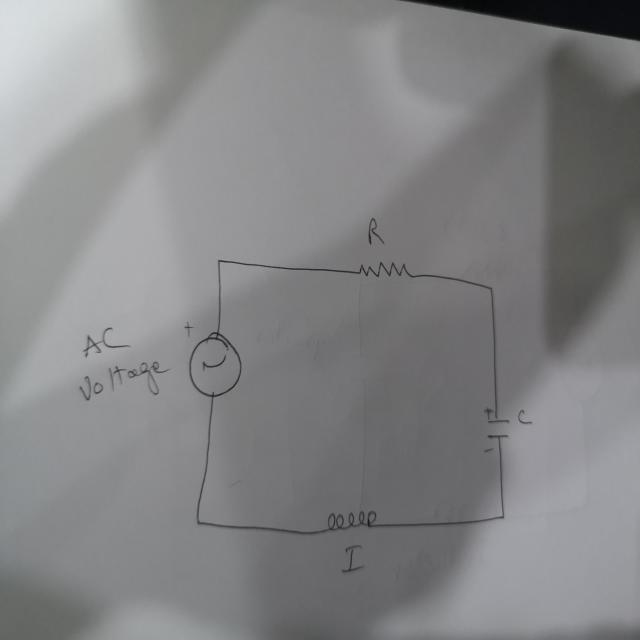capacitor: (481, 404, 512, 455)
inductor: (325, 506, 377, 534)
junction: (497, 509, 508, 523), (485, 282, 495, 296), (192, 514, 202, 528), (214, 254, 224, 268)
resistor: (357, 258, 412, 280)
source: (182, 319, 244, 400)
text: (78, 354, 174, 403), (78, 322, 133, 360), (341, 544, 368, 574), (366, 214, 386, 247), (516, 408, 532, 428)
